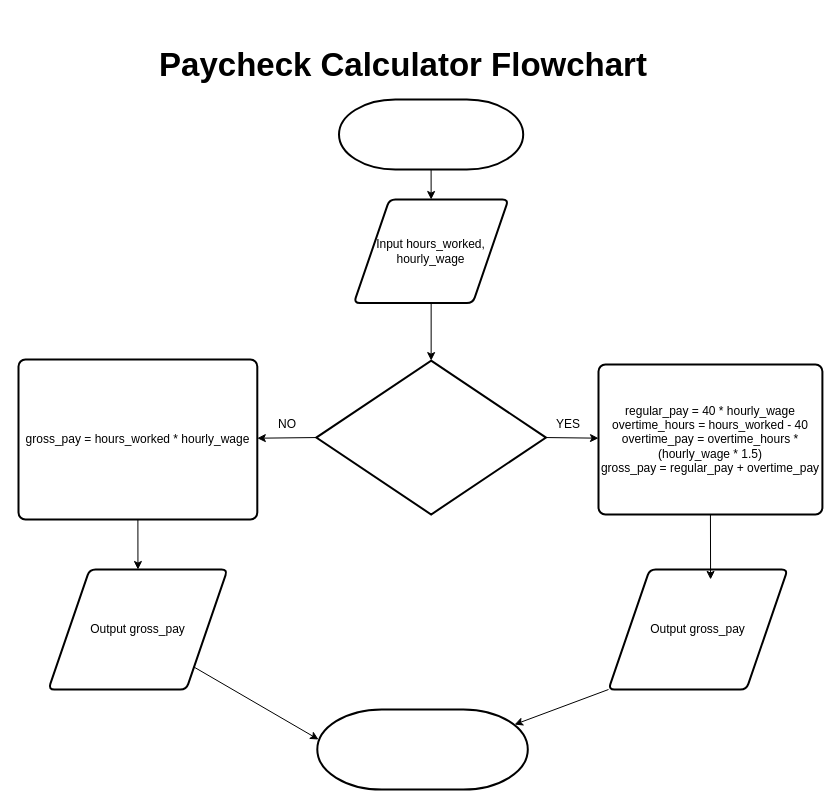
This 840x807 diagram has some shape labels left out. Here are the shapes that lost their labels. From the top down, the centre of each, then its label:
At (431,134): "Start".
At (430,437): "Is hours_worked > 40?".
At (422,749): "END".
